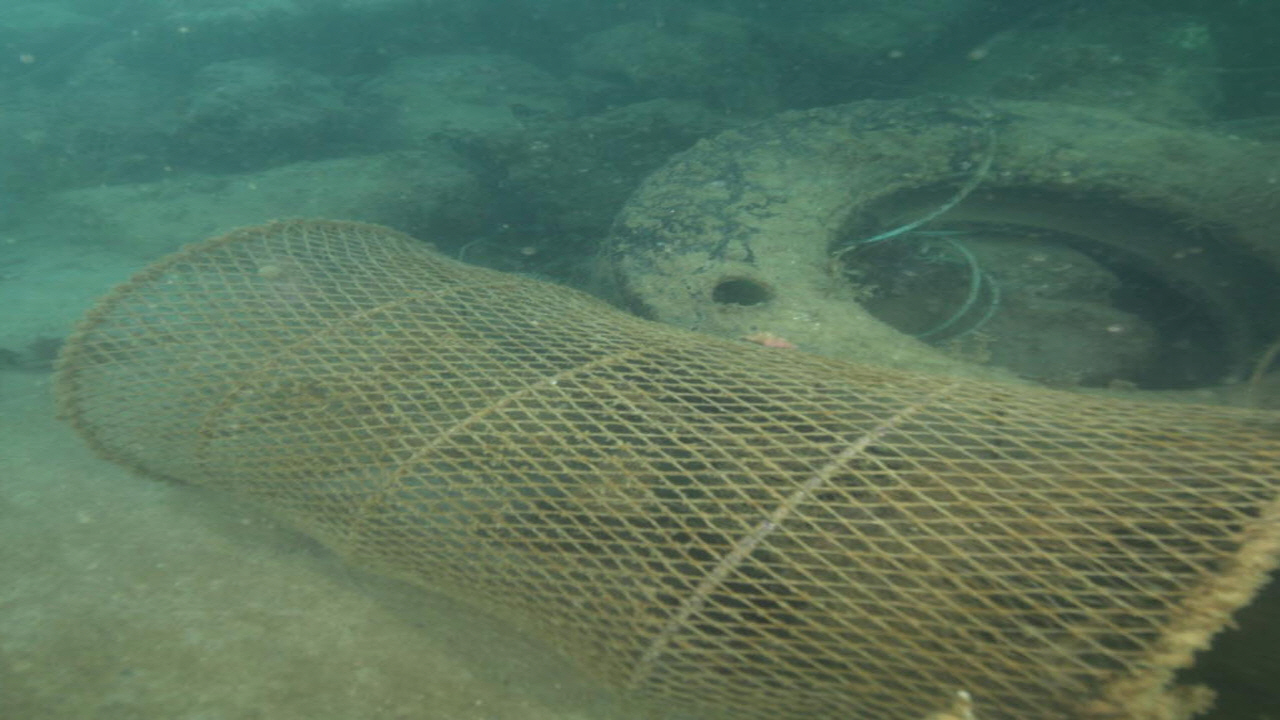spring fish trap: (53, 215, 1280, 720)
tire: (606, 97, 1280, 409)
